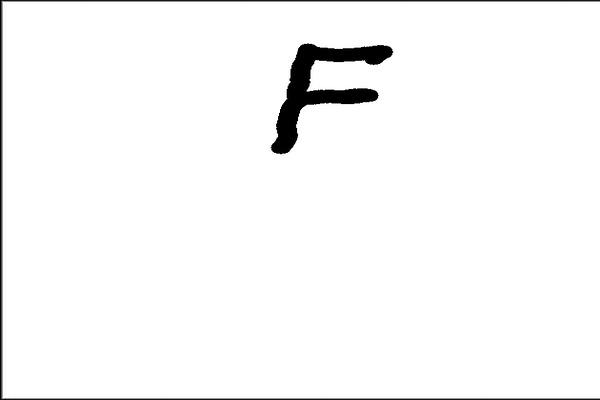F: (264, 38, 394, 156)
